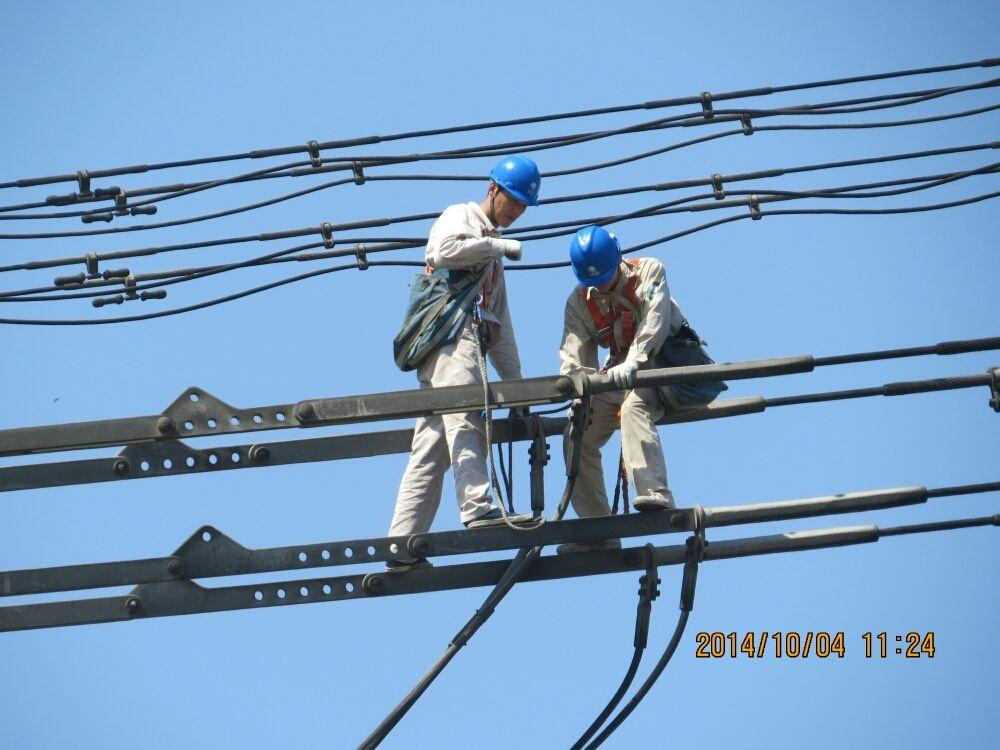Helmet: (484, 155, 542, 228), (566, 223, 621, 297)
